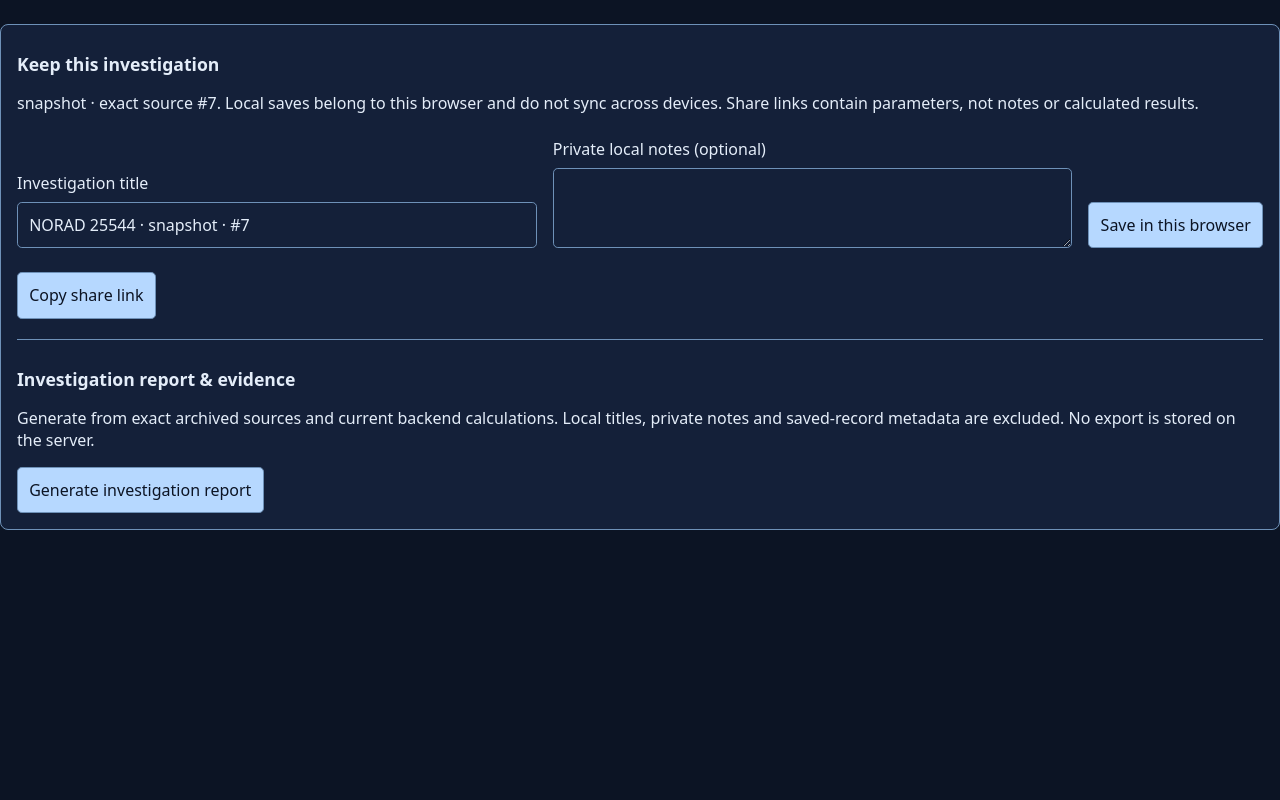
announces storage failure without claiming success
The width and height of the screenshot is (1280, 800).
Click the button "Save in this browser" at [1176, 225], box [1088,202,1263,248]
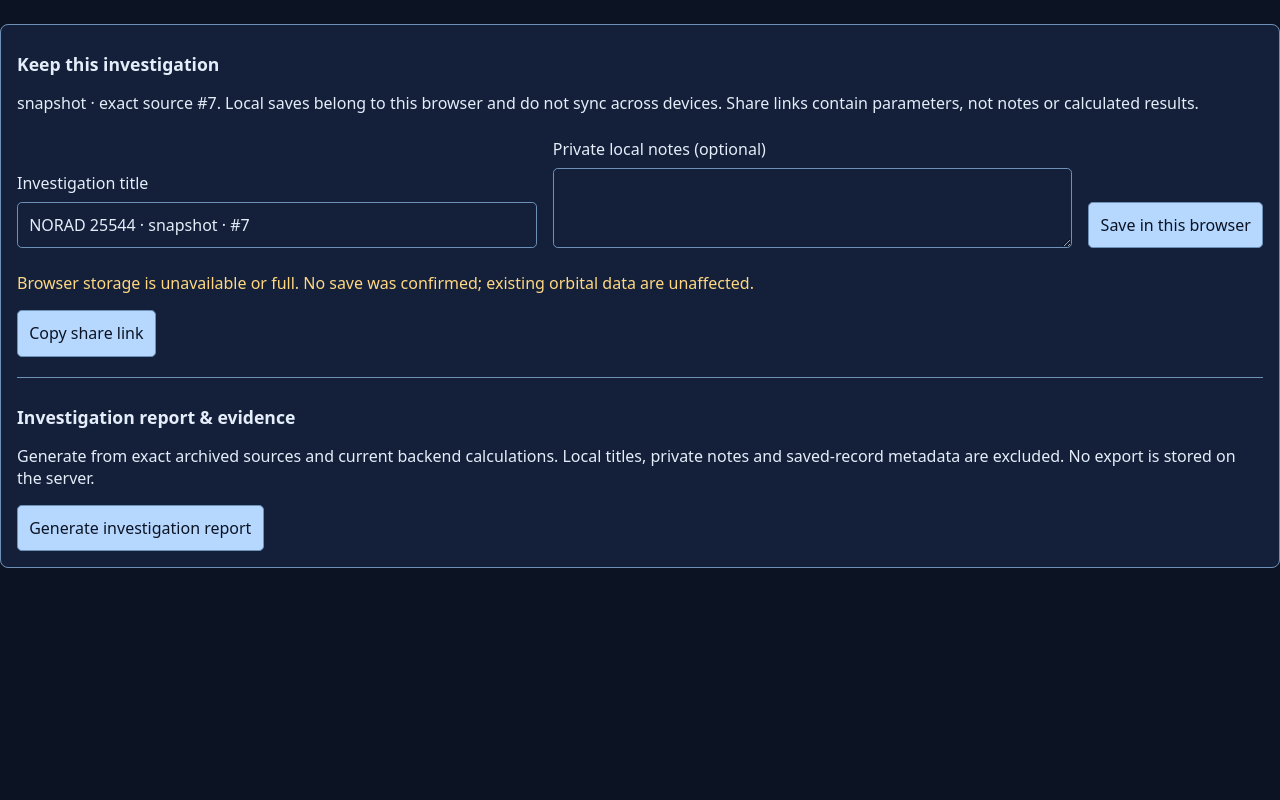
Expected: the message shows "No save was confirmed", [17,272,754,294]
